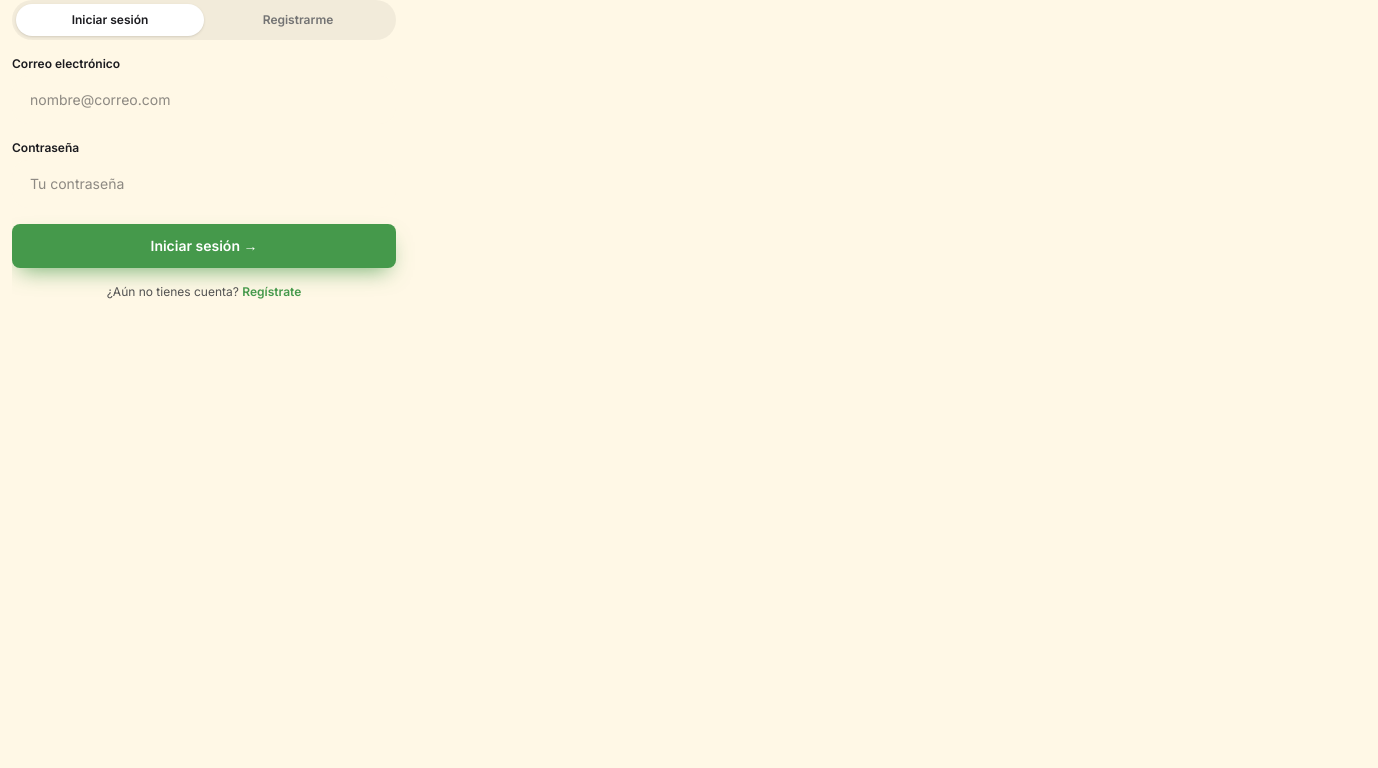
Test: shows the server error in a toast when login fails
Type "valentina@correo.com" into the field labelled "Correo electrónico".
click(204, 100); type("valentina@correo.com")  # box [12,76,396,124]
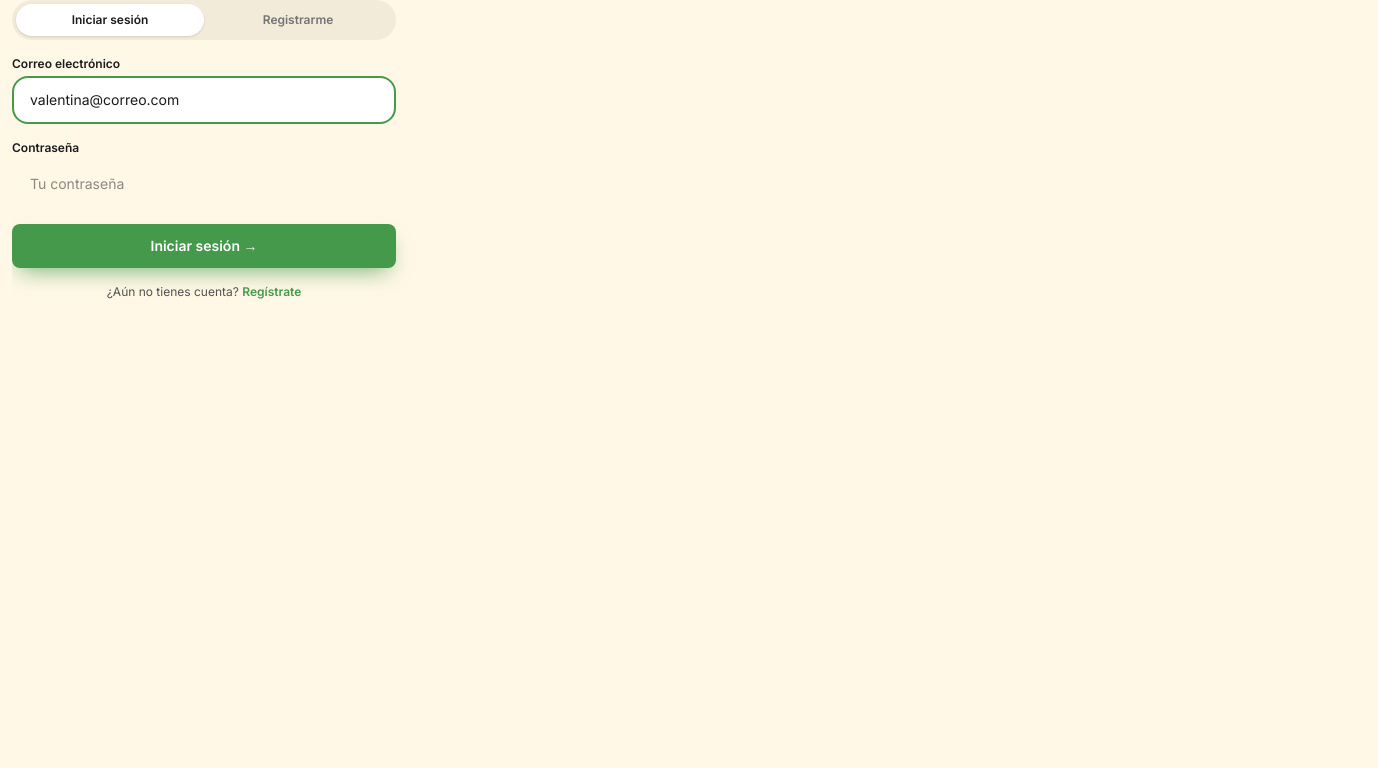
Type "secreto1" into the password field labelled "Contraseña".
click(204, 184); type("secreto1")  # box [12,160,396,208]
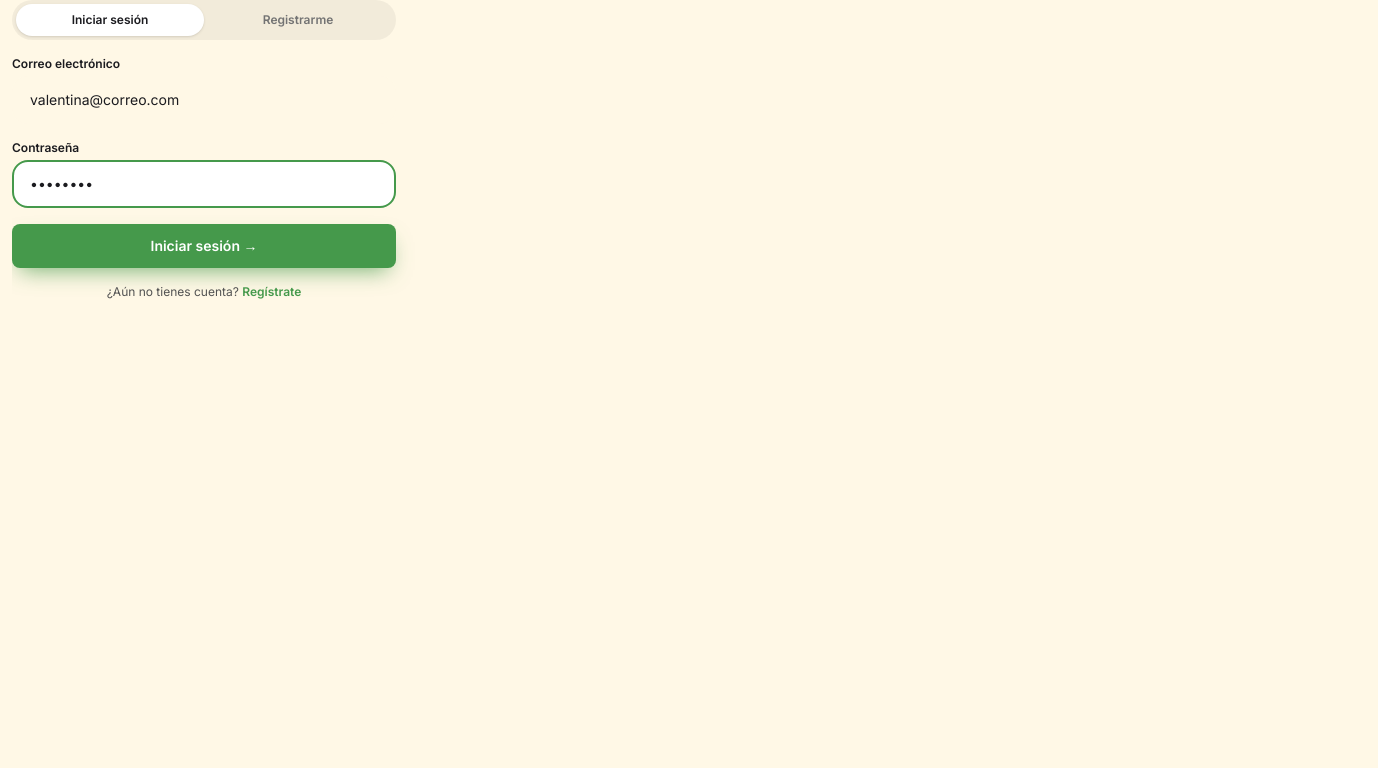
Click the button "Iniciar sesión →".
click(204, 246)  # box [12,224,396,268]
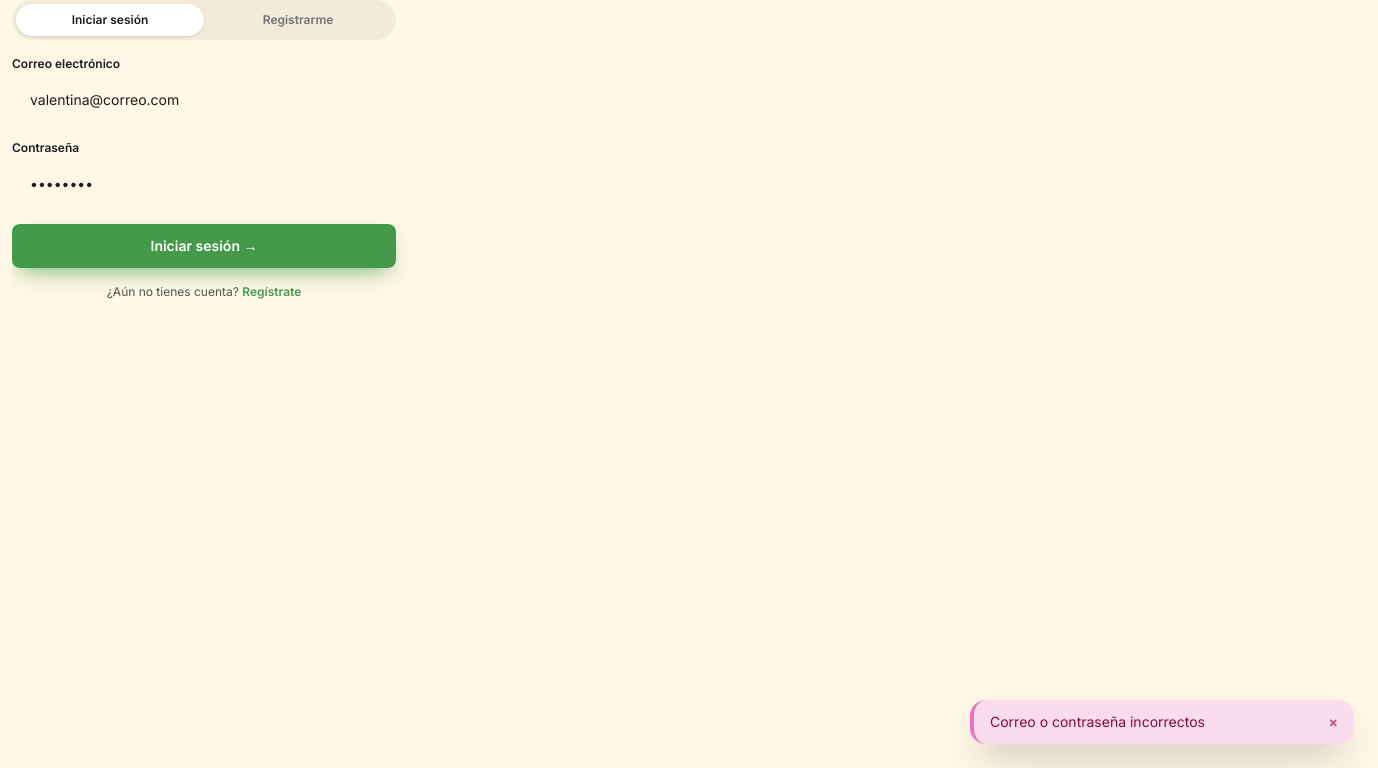
Check: the message shows "Correo o contraseña incorrectos", box [990,713,1205,730]
